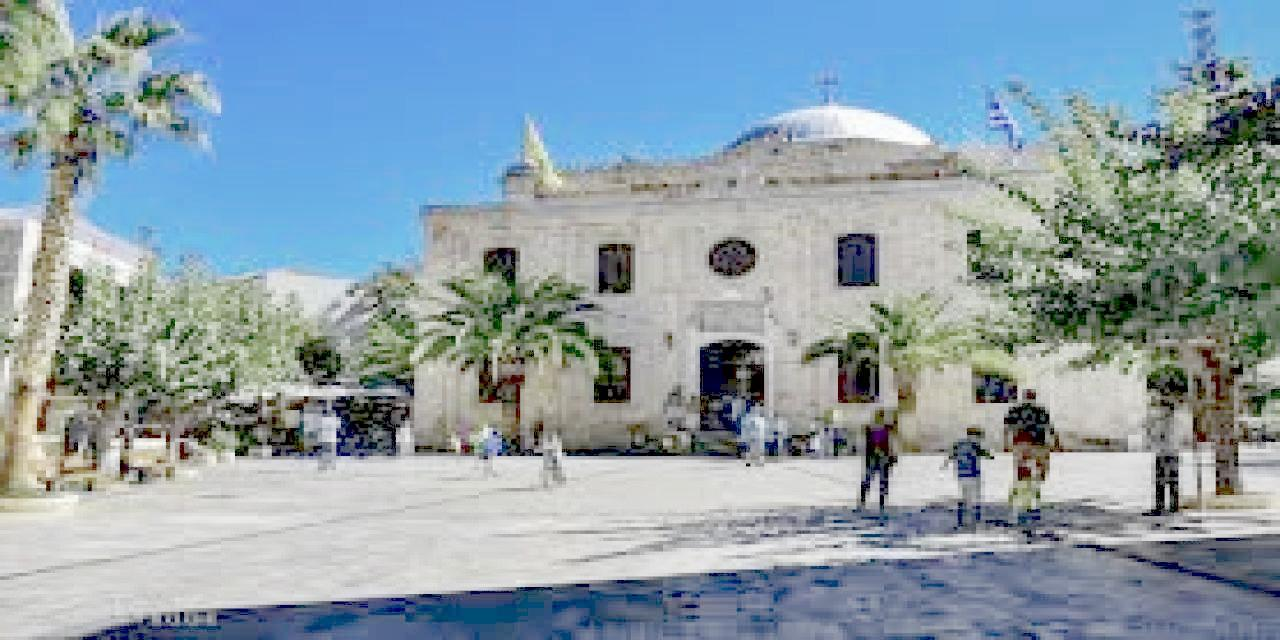Agios Titos: (423, 106, 1135, 441)
